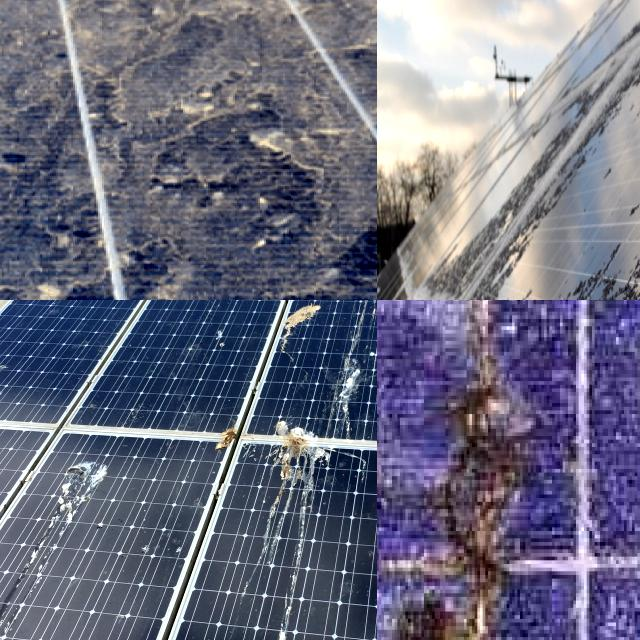bird: (265, 414, 340, 512), (56, 426, 128, 526), (118, 300, 201, 353), (207, 420, 257, 486), (267, 300, 315, 343), (325, 300, 377, 328), (365, 379, 377, 446), (359, 300, 377, 330)
dust: (66, 0, 307, 300), (0, 0, 51, 300), (0, 0, 237, 28)
panel: (554, 48, 640, 175), (476, 178, 536, 289), (377, 252, 435, 300)
shadow: (401, 302, 536, 640), (377, 408, 477, 640)
